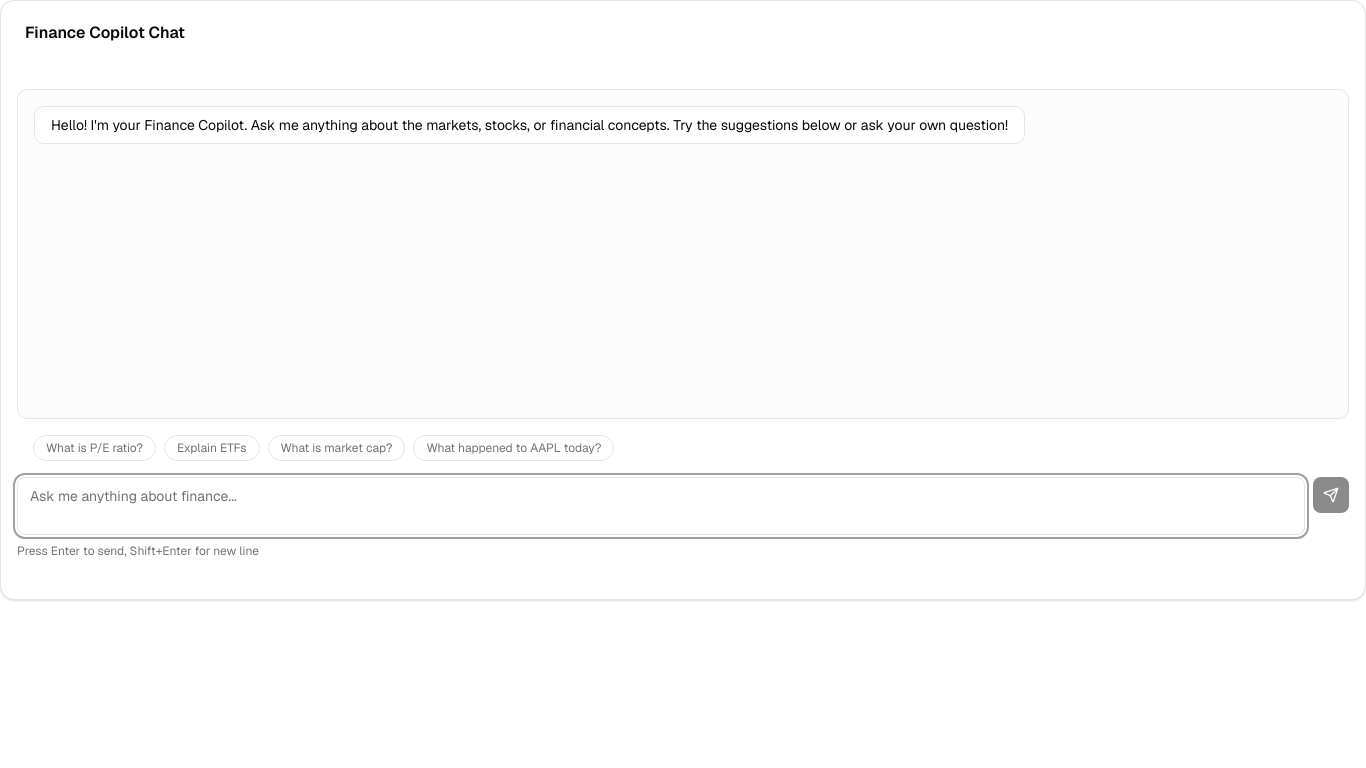
it: Chat Component - API Integration › displays API response in chat
In the text box with placeholder "Ask me anything about finance...": (661, 506) [17,477,1305,535], type "Test question"
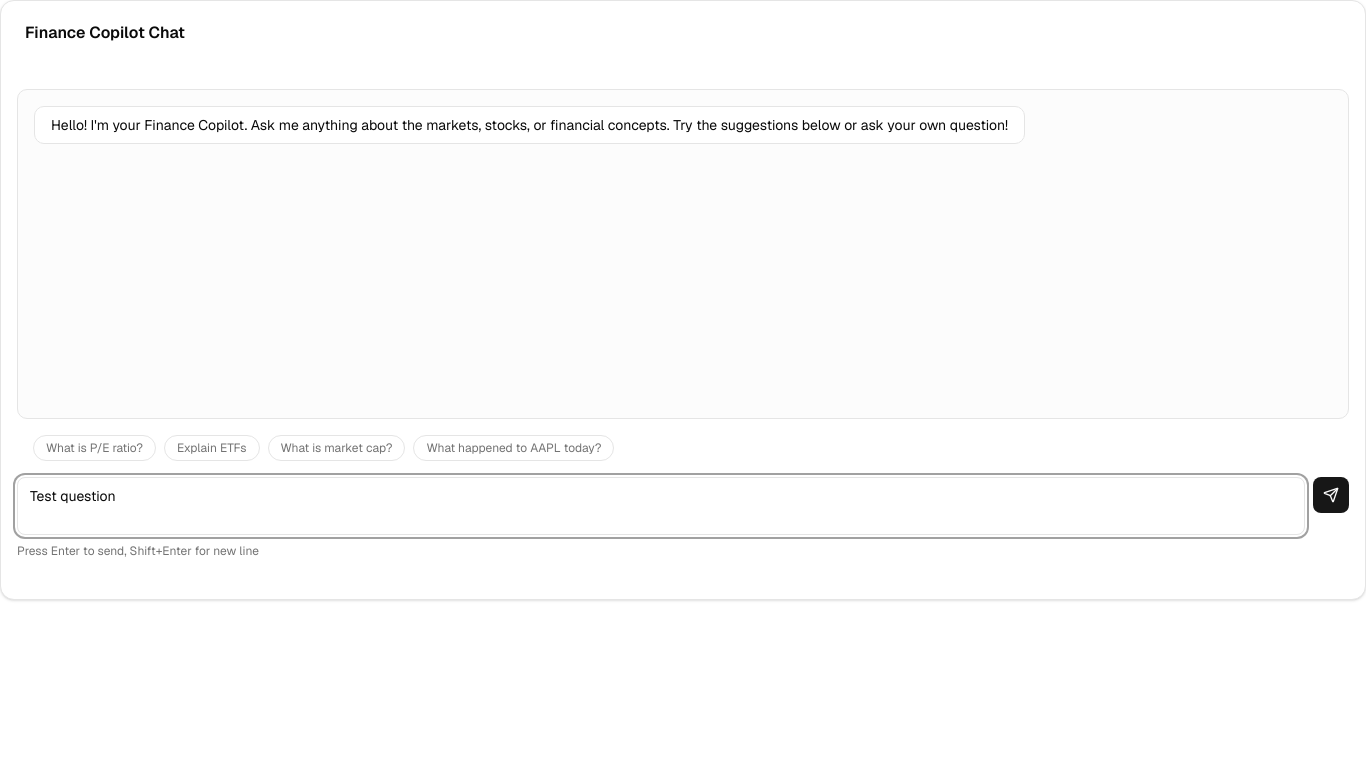
Click the 5th button: (1331, 495) [1313,477,1349,513]
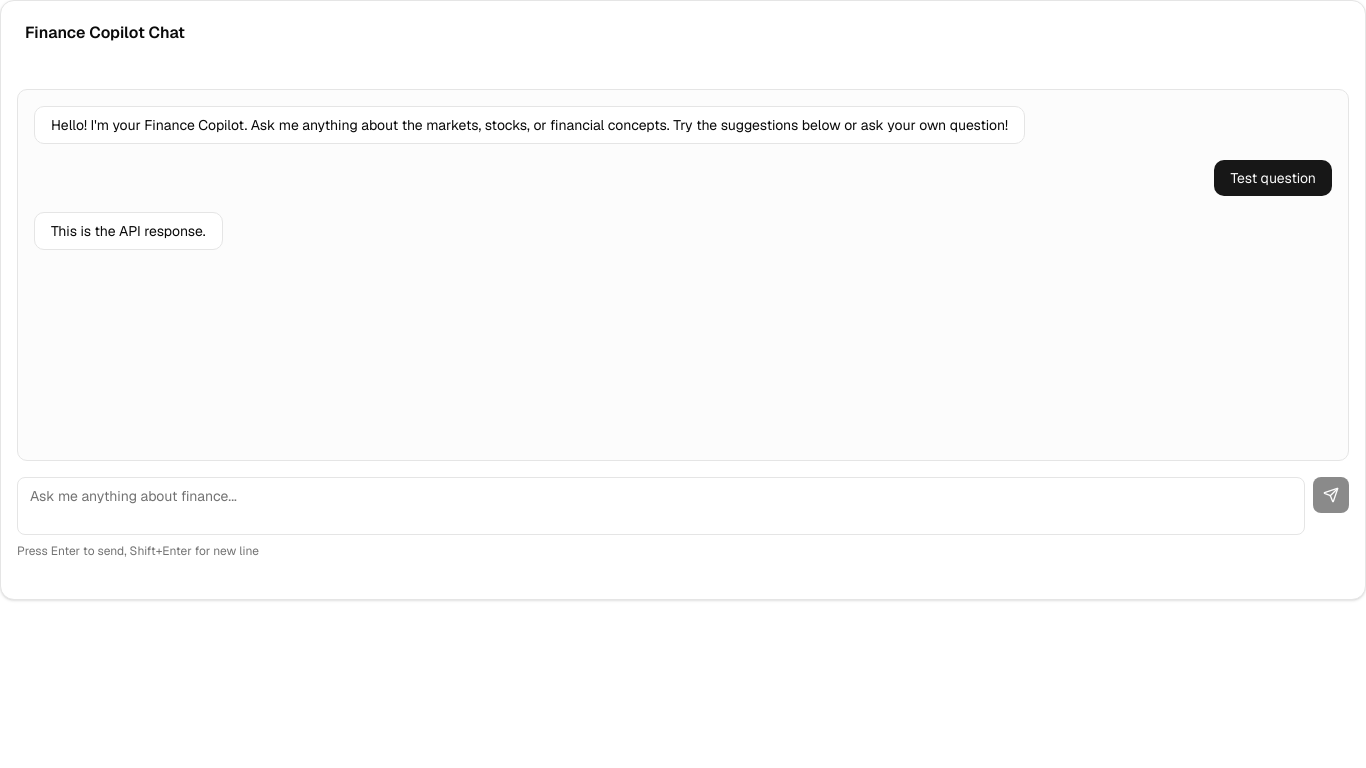
Expected: the text "This is the API response." is shown, [51,221,206,241]
